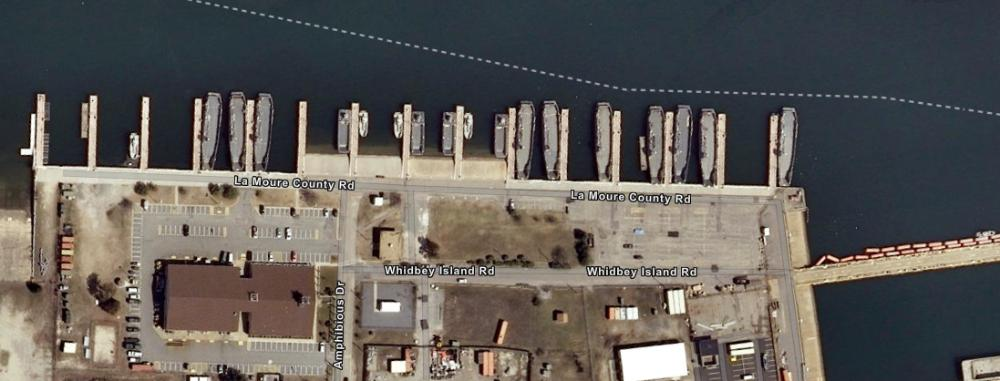barge: (541, 92, 567, 186), (199, 91, 227, 177), (698, 103, 723, 190), (591, 94, 616, 181), (255, 88, 279, 177), (227, 87, 248, 176), (513, 99, 535, 181), (780, 102, 799, 189), (647, 103, 667, 184), (675, 102, 692, 187)
